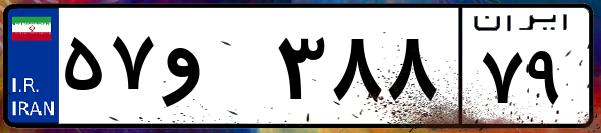3: (270, 28, 330, 110)
5: (57, 26, 110, 100)
7: (475, 38, 525, 113), (110, 28, 158, 98)
8: (385, 28, 445, 110), (330, 28, 385, 110)
9: (525, 38, 570, 115)
و: (158, 20, 270, 120)
